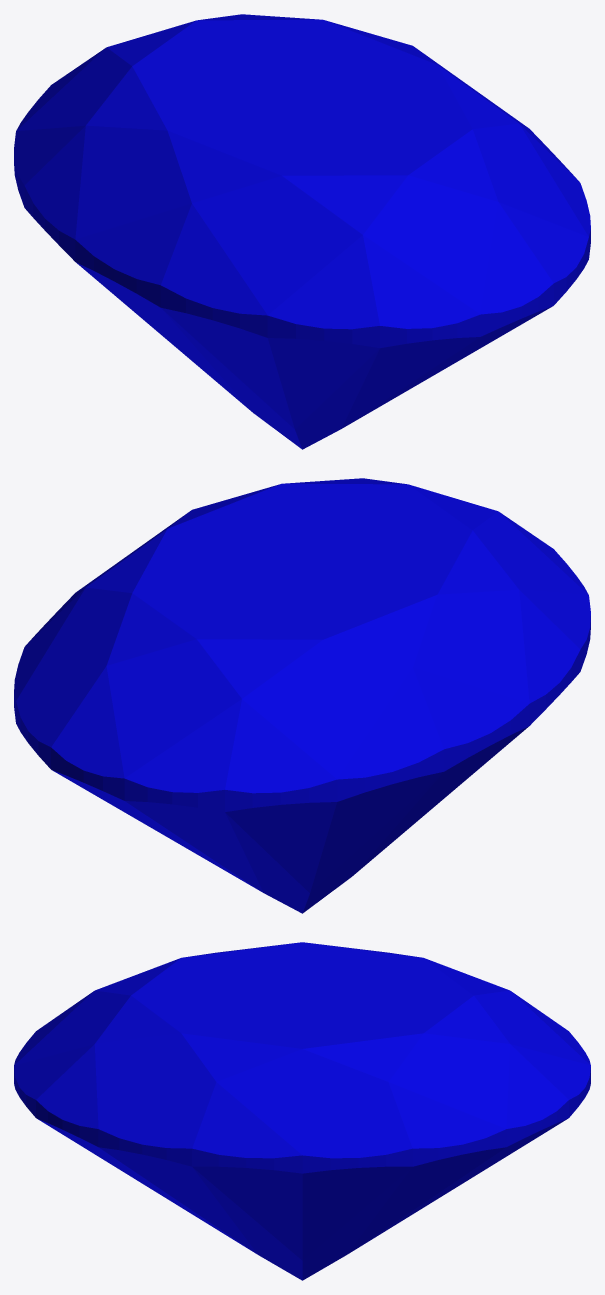
File: Head_Single Halo_Oval_1.0ct_Diamond.glb
3 views of the same model, one above another, from view 1: azimuth 30°, elevation 25°; view 2: azimuth 150°, elevation 25°; view 3: azimuth 270°, elevation 25° (orthographic). The views are drawn at different scales.
Bounding box in the file's own units: 0.00568 × 0.0042 × 0.00771.
